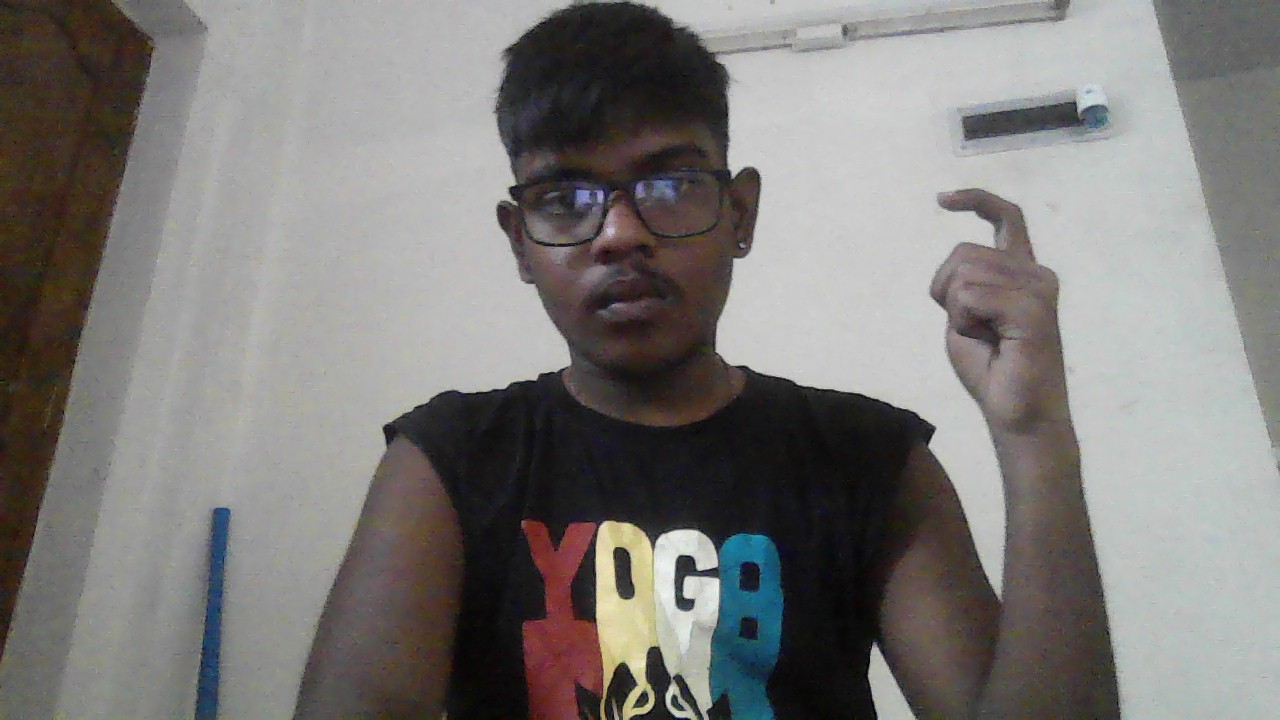X: (930, 188, 1071, 439)
